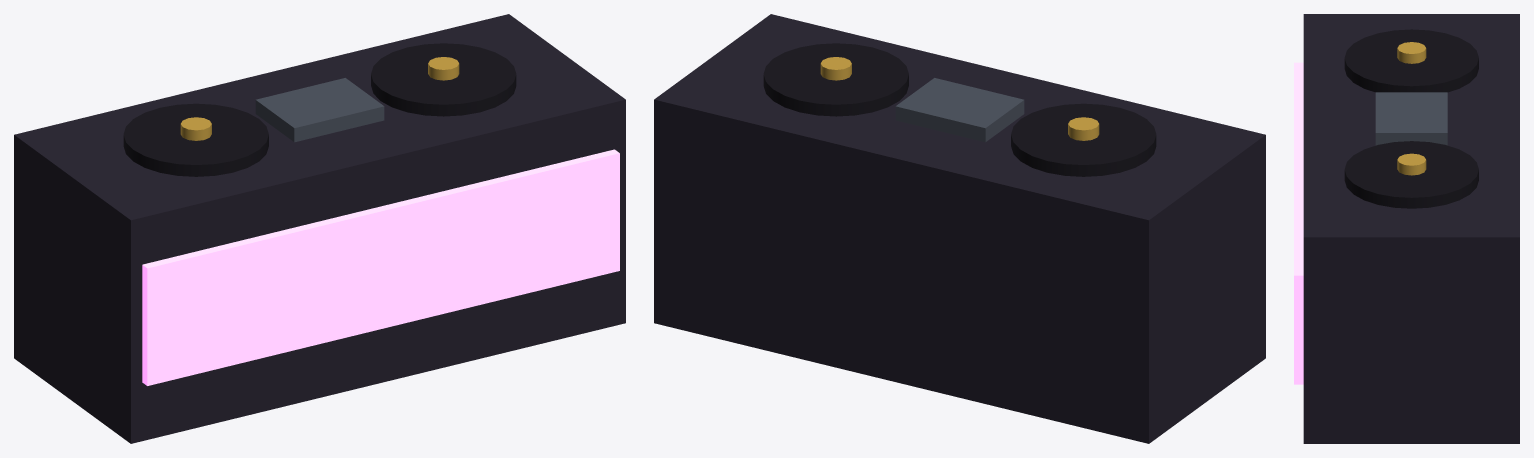
Rendered from prop_club_booth_ph.glb.
3 views of the same model, side by side, from view 1: azimuth 30°, elevation 25°; view 2: azimuth 150°, elevation 25°; view 3: azimuth 270°, elevation 25° (orthographic). The views are drawn at different scales.
Visible parts, largest first — view 1: prop_club_booth; view 2: prop_club_booth; view 3: prop_club_booth.
Part boxes in pixels (left/top/right/bottom): prop_club_booth: left=14, top=14, right=625, bottom=443; prop_club_booth: left=654, top=14, right=1265, bottom=443; prop_club_booth: left=1294, top=14, right=1519, bottom=443.
Bounding box in the file's own units: 2.2 × 1.05 × 0.94.
